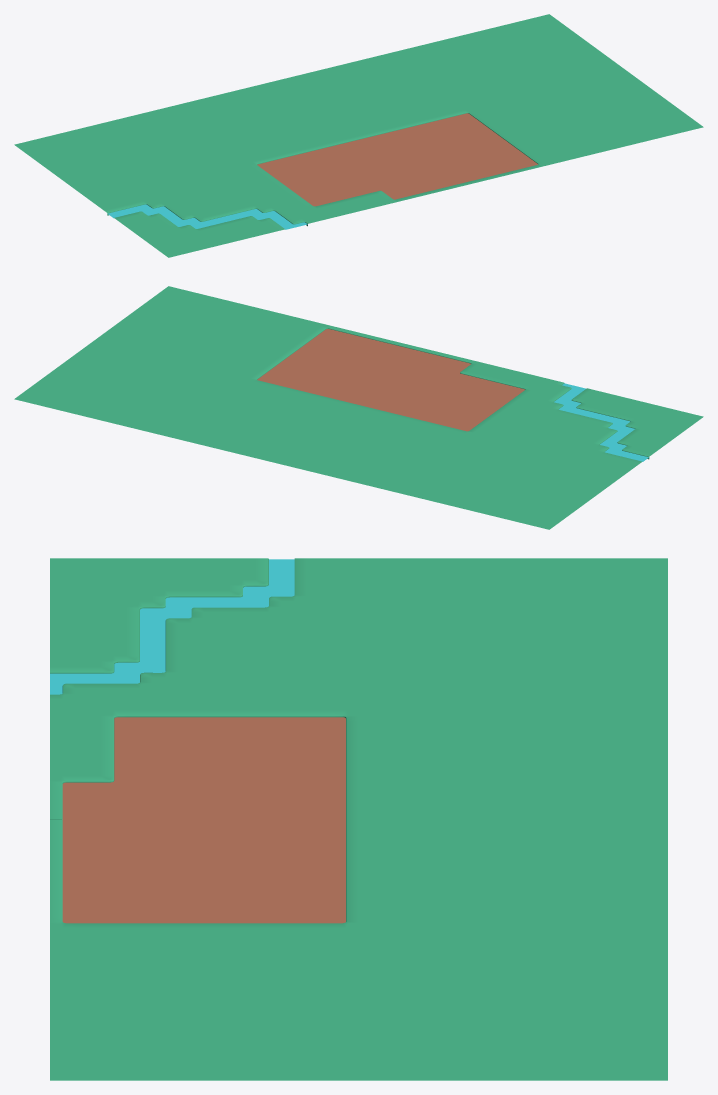
Rendered from Terrain Mesh Optimized.glb.
The picture shows the model from 3 angles, top to bottom: view 1: azimuth 30°, elevation 25°; view 2: azimuth 150°, elevation 25°; view 3: azimuth 270°, elevation 25°; orthographic projection. The views are drawn at different scales.
Parts seen in each view (by area): view 1: square_ground_detail2; view 2: square_ground_detail2; view 3: square_ground_detail2.
Boxes of the visible parts, <box> form: square_ground_detail2: <box>14,14,703,257</box>; square_ground_detail2: <box>14,286,703,529</box>; square_ground_detail2: <box>50,558,667,1080</box>.
Size of the model in its own units: 96 by 0.4588 by 48.
